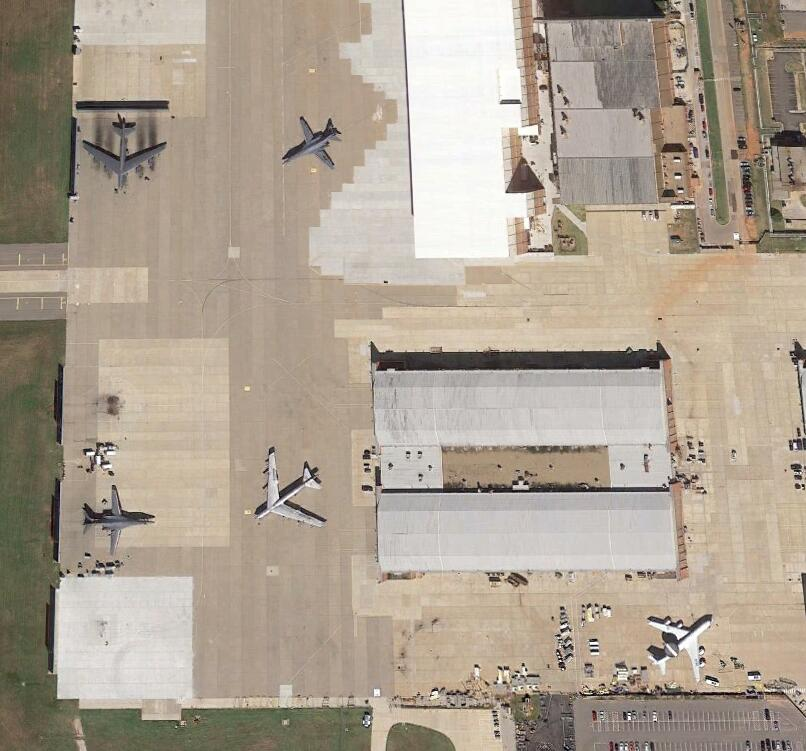A10: (83, 486, 156, 557), (282, 116, 343, 173)
A7: (645, 615, 714, 684)
A8: (251, 450, 330, 532), (81, 120, 169, 193)
